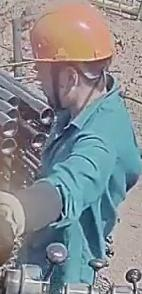gloves: (0, 187, 35, 269)
helmet: (28, 6, 115, 63)
vest: (26, 74, 141, 293)
